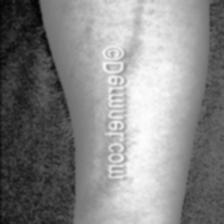Toxin: (60, 0, 92, 53), (80, 179, 112, 224), (128, 0, 147, 70), (123, 88, 133, 168)
